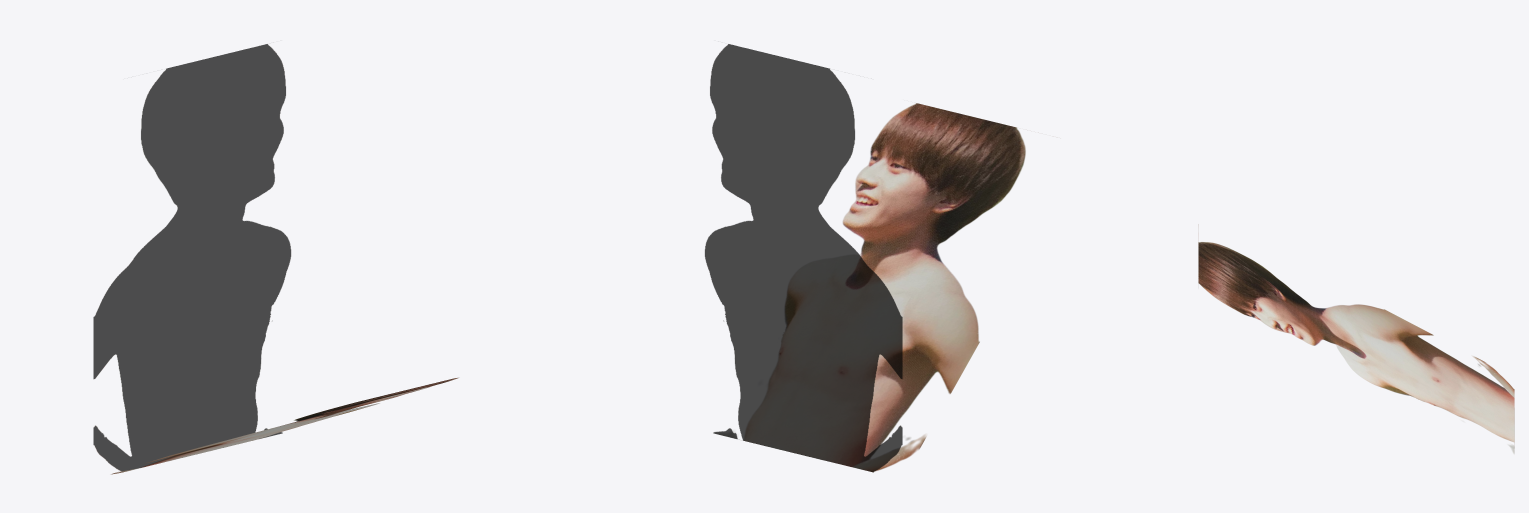
3 views of the same model, side by side, from view 1: azimuth 30°, elevation 25°; view 2: azimuth 150°, elevation 25°; view 3: azimuth 270°, elevation 25° (orthographic). The views are drawn at different scales.
Parts seen in each view (by area): view 1: 平面.002, 平面; view 2: 平面.002, 平面; view 3: 平面.
Part boxes in pixels (x1,y1,x2,y2): 平面.002: (93,44,291,471); 平面: (111,377,458,474); 平面.002: (704,44,902,472); 平面: (716,103,1025,471); 平面: (1198,241,1514,453).
Size of the model in its own units: 2 by 2 by 1.73.
Materials: 2 (2 with a texture image).
